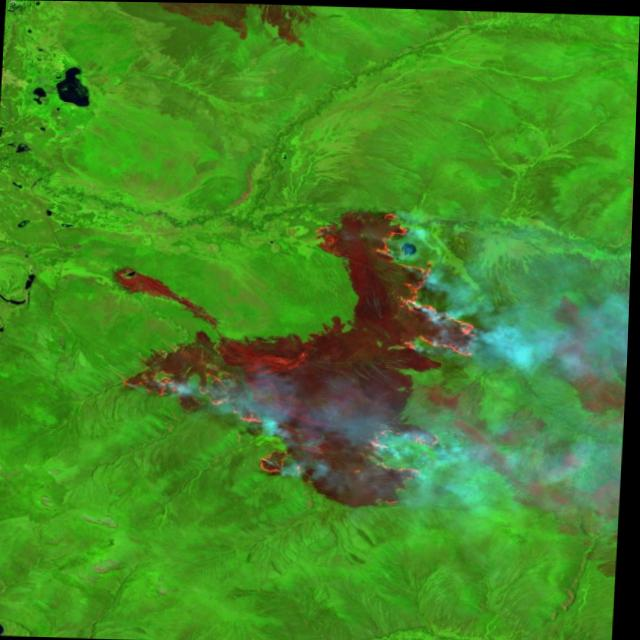fire: (112, 199, 494, 508)
